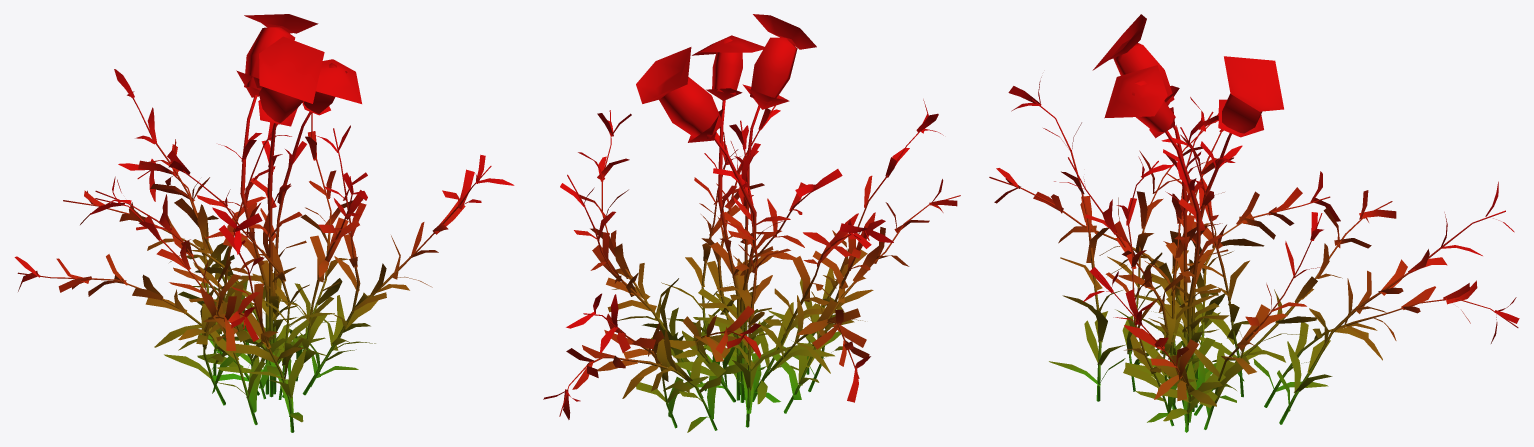
Rendered from Var5_LOD2.fbx.
3 renders of one model, left to right at view 1: azimuth 30°, elevation 25°; view 2: azimuth 150°, elevation 25°; view 3: azimuth 270°, elevation 25°, orthographic. The views are drawn at different scales.
Visible parts, largest first — view 1: _h6yd_Var5_LOD2; view 2: _h6yd_Var5_LOD2; view 3: _h6yd_Var5_LOD2.
Boxes of the visible parts, x1=… form: _h6yd_Var5_LOD2: x1=14, y1=14, x2=514, y2=432; _h6yd_Var5_LOD2: x1=543, y1=14, x2=960, y2=432; _h6yd_Var5_LOD2: x1=989, y1=14, x2=1519, y2=432.
Bounding box in the file's own units: 23.52 × 21.93 × 27.
